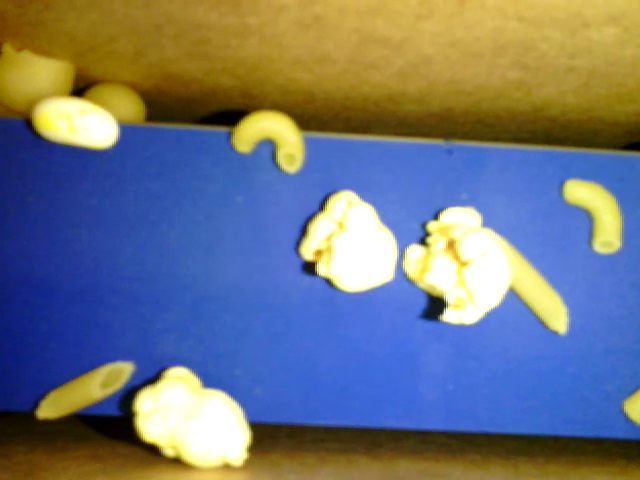elbow: (231, 110, 306, 175), (562, 179, 621, 253)
penne: (35, 360, 134, 420), (505, 242, 568, 336)
shell: (1, 43, 74, 113)
